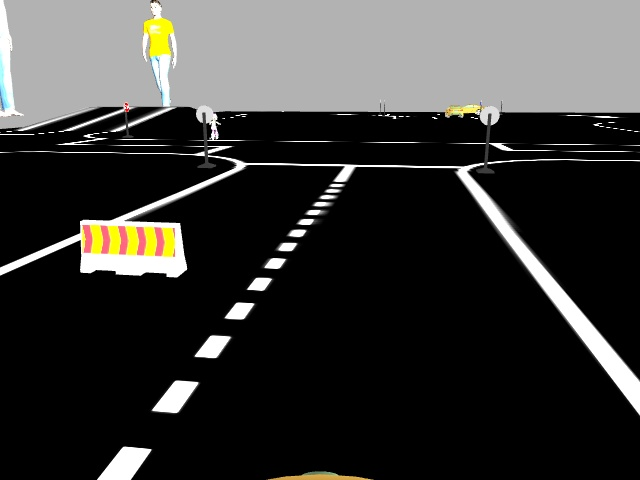ClosedRoadStand: (79, 219, 182, 275)
